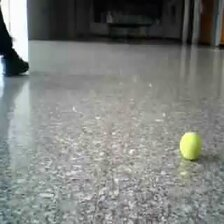tennis: (179, 132, 204, 160)
